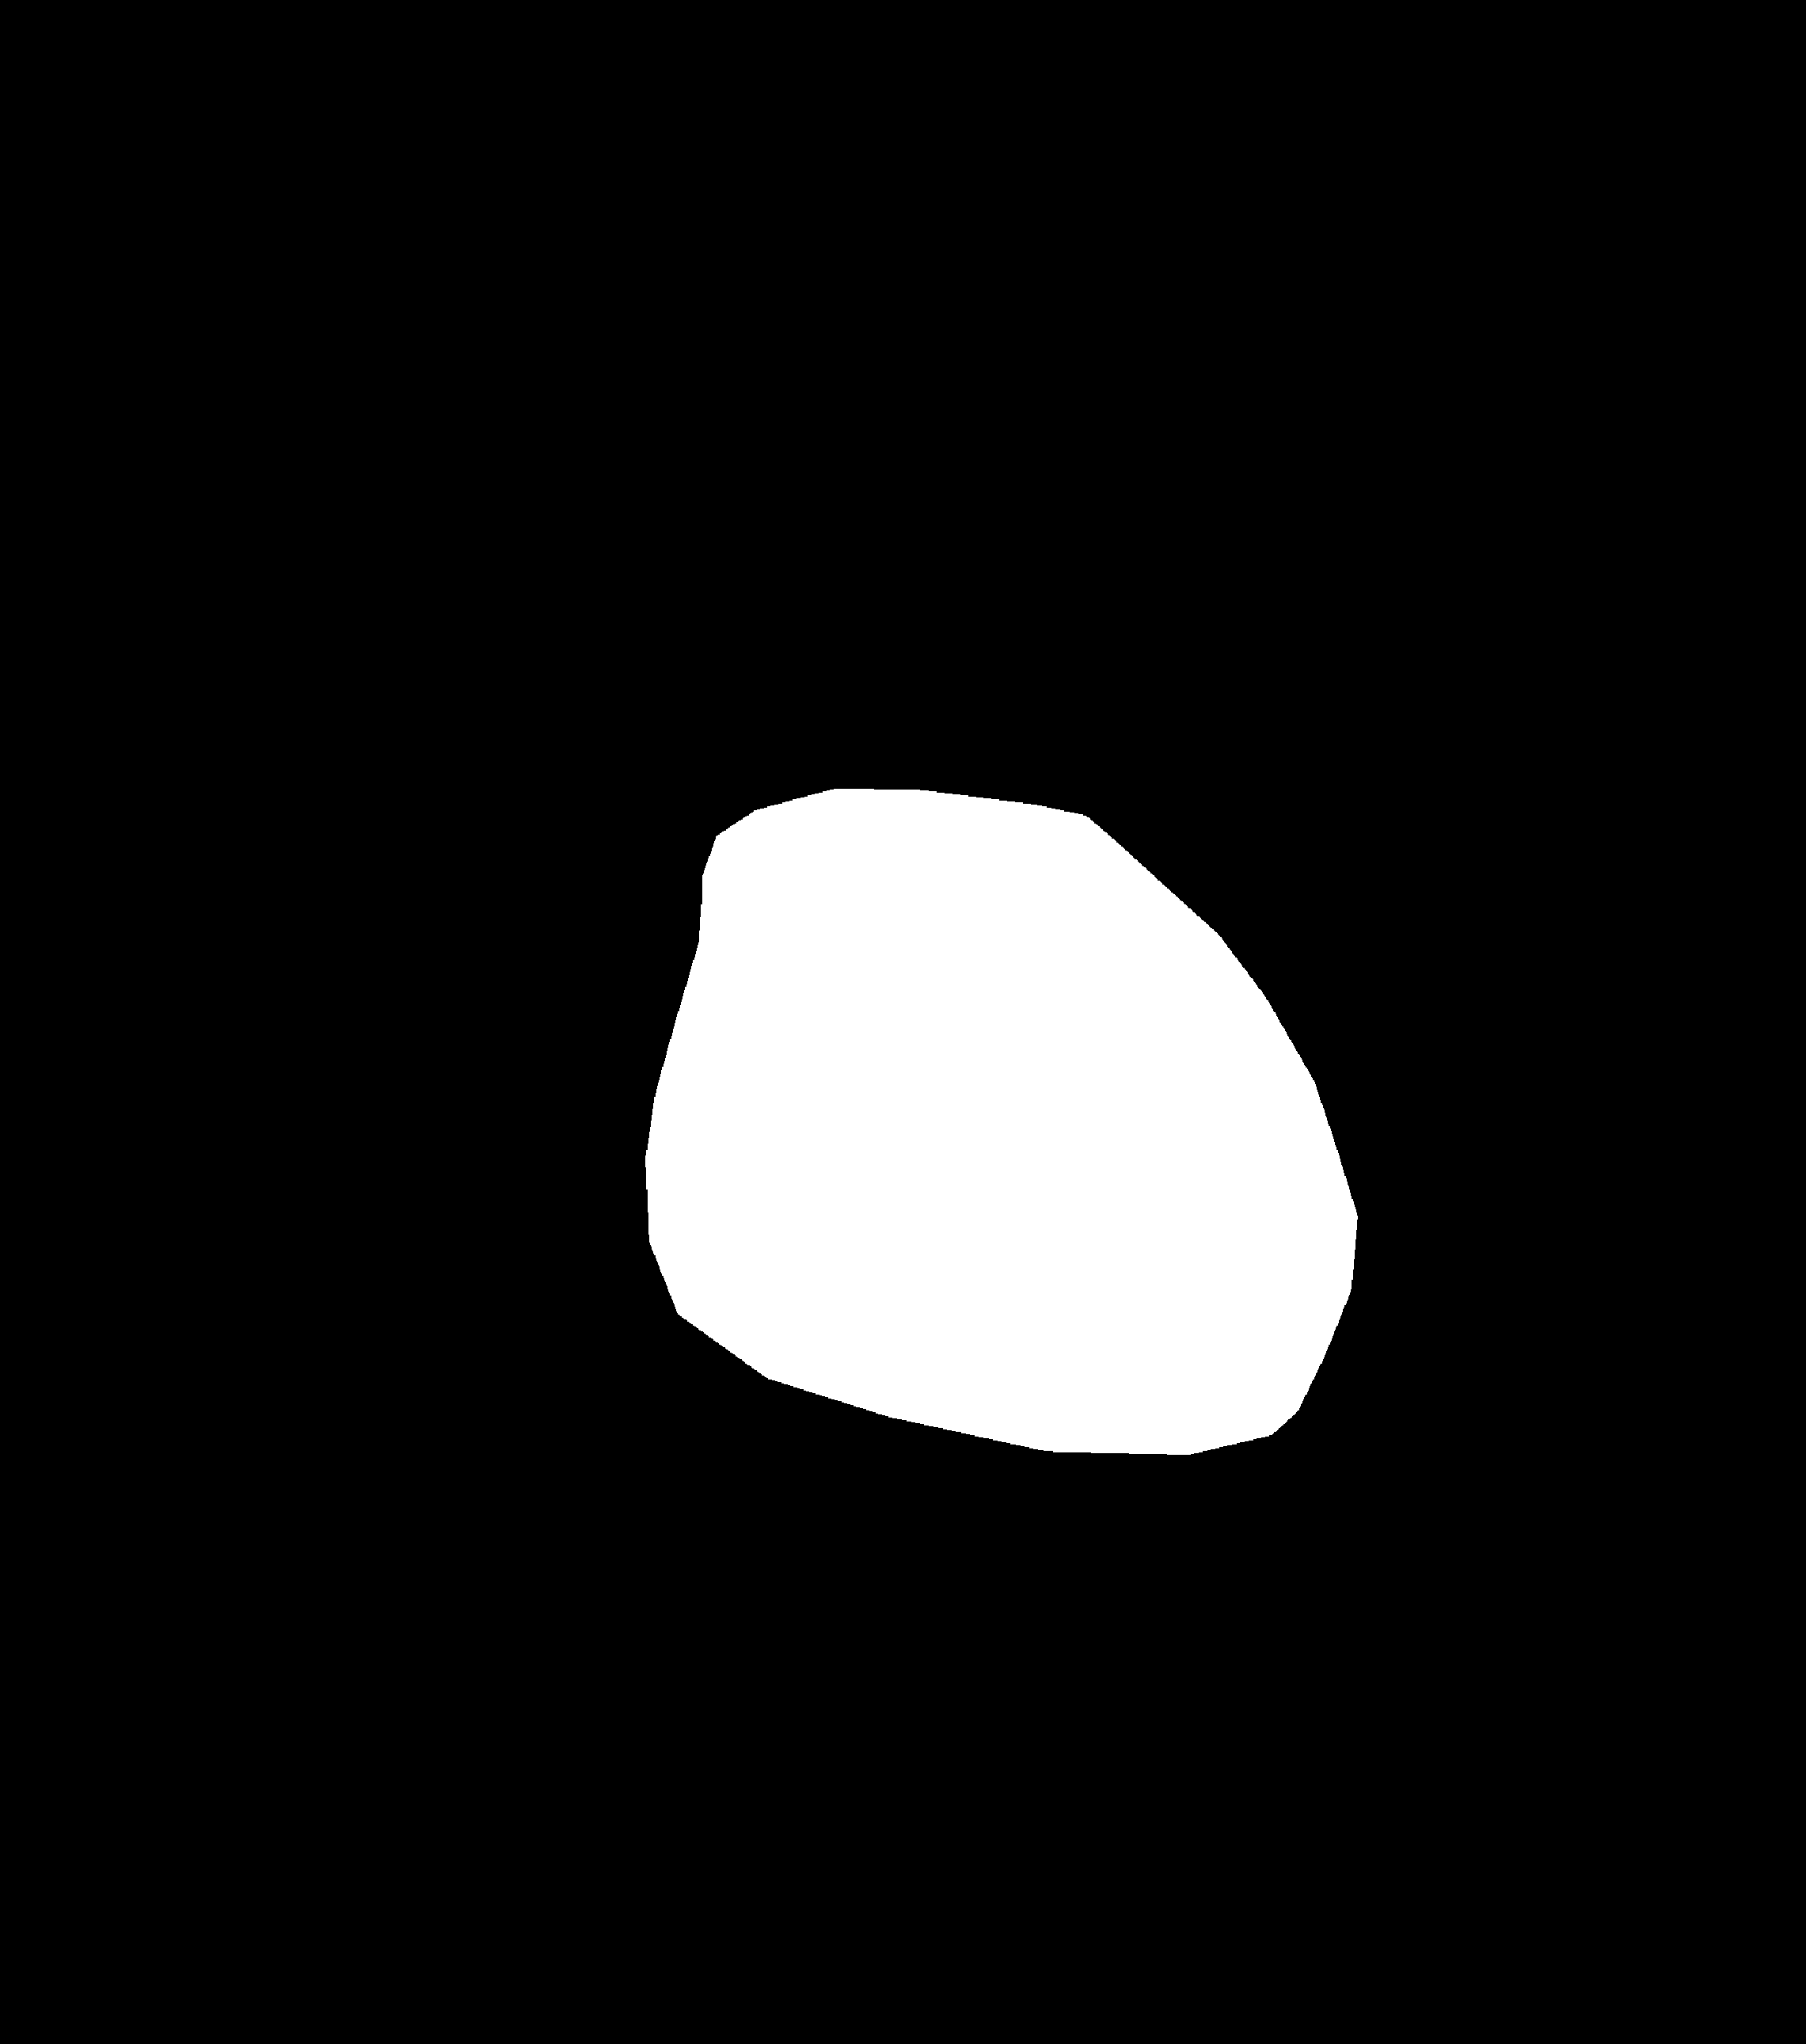heart: (645, 801, 1354, 1475)
left_lung: (207, 202, 811, 1653)
right_lung: (941, 176, 1581, 1599)
